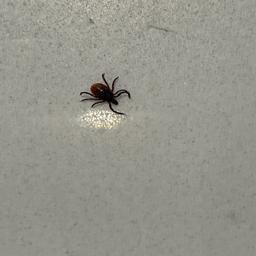Ixodes scapularis: (77, 73, 132, 116)
